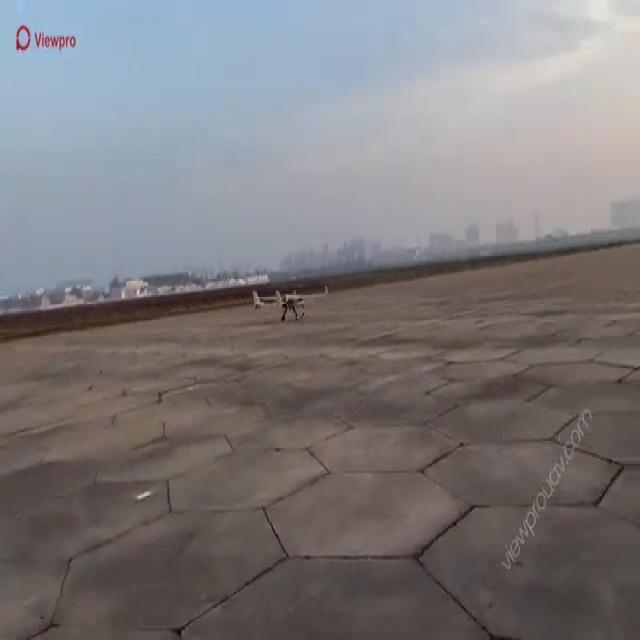drones: (241, 264, 339, 336)
